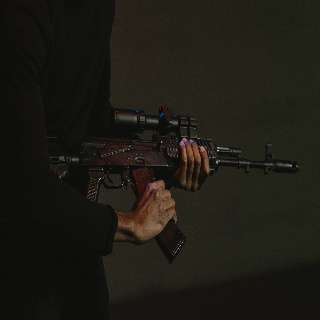rifle: (46, 104, 300, 265)
